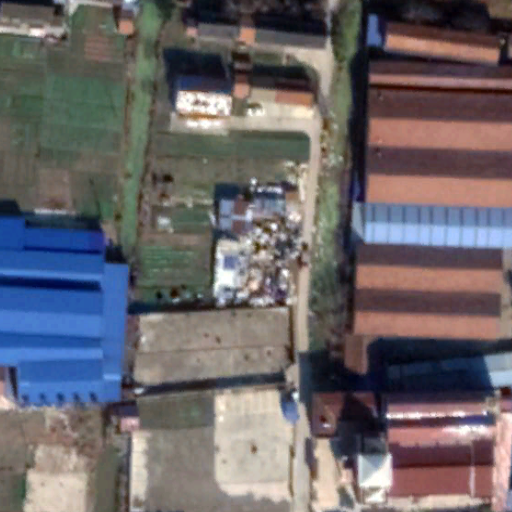msw: (247, 214, 306, 306)
